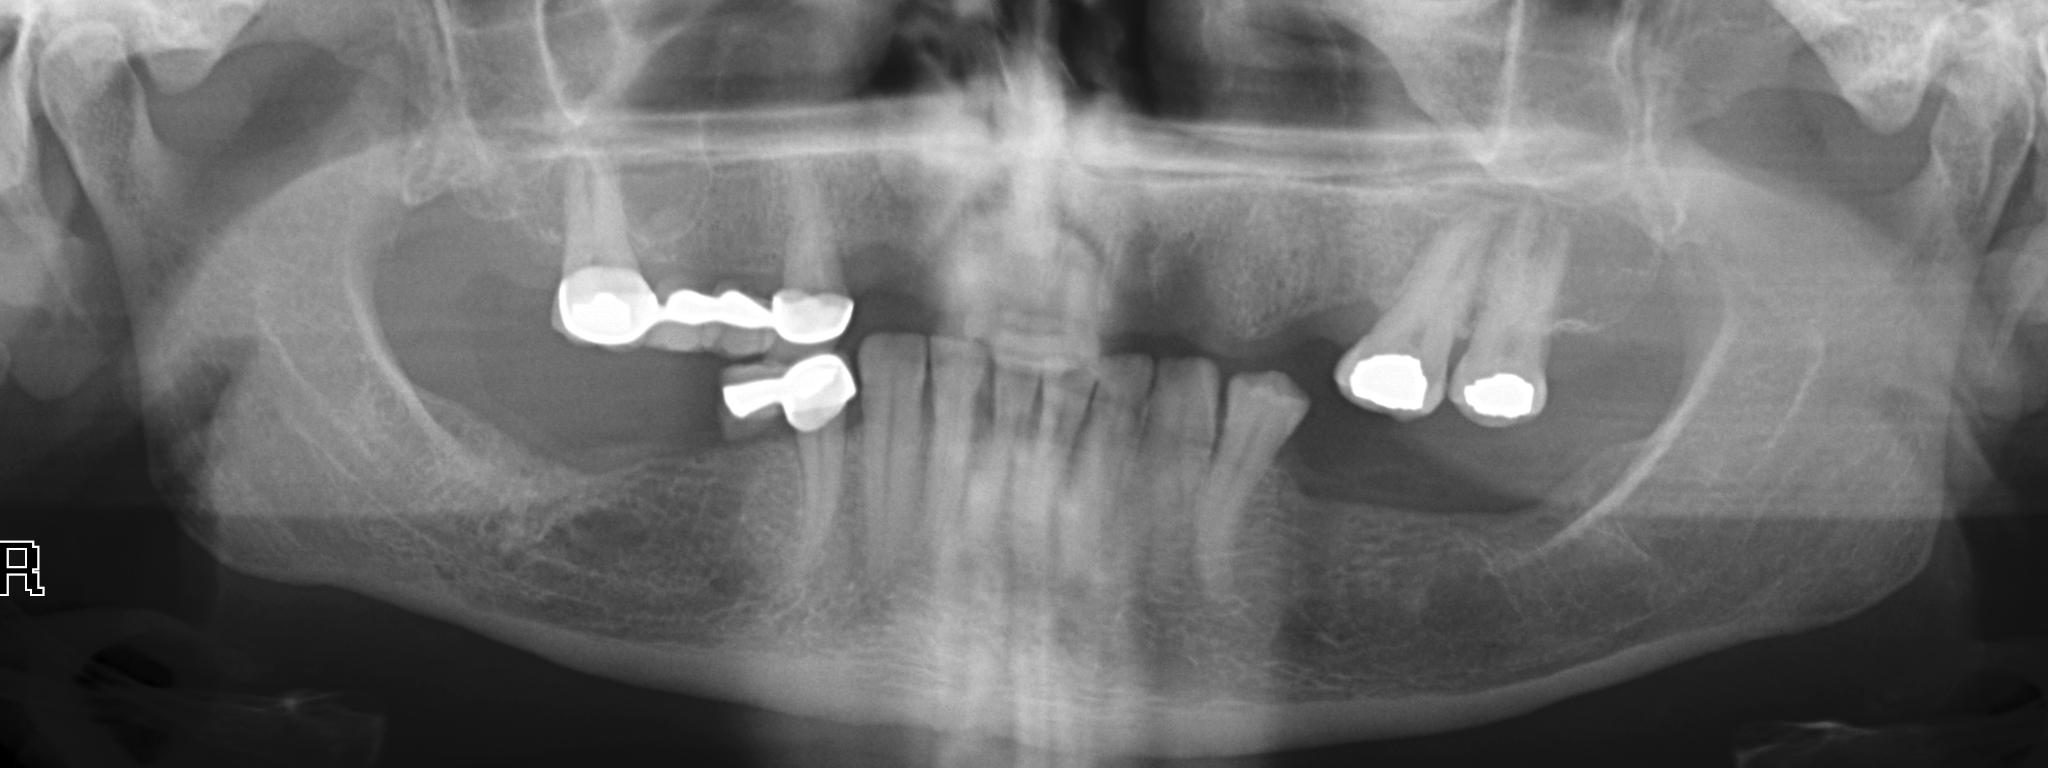Fillings: (1450, 223, 1558, 428), (773, 353, 862, 585), (551, 163, 658, 351), (769, 172, 853, 346)
